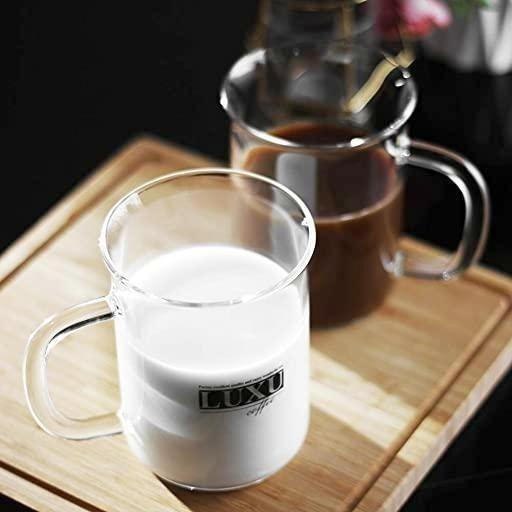glass-mug: (18, 163, 318, 499), (223, 38, 490, 328)
